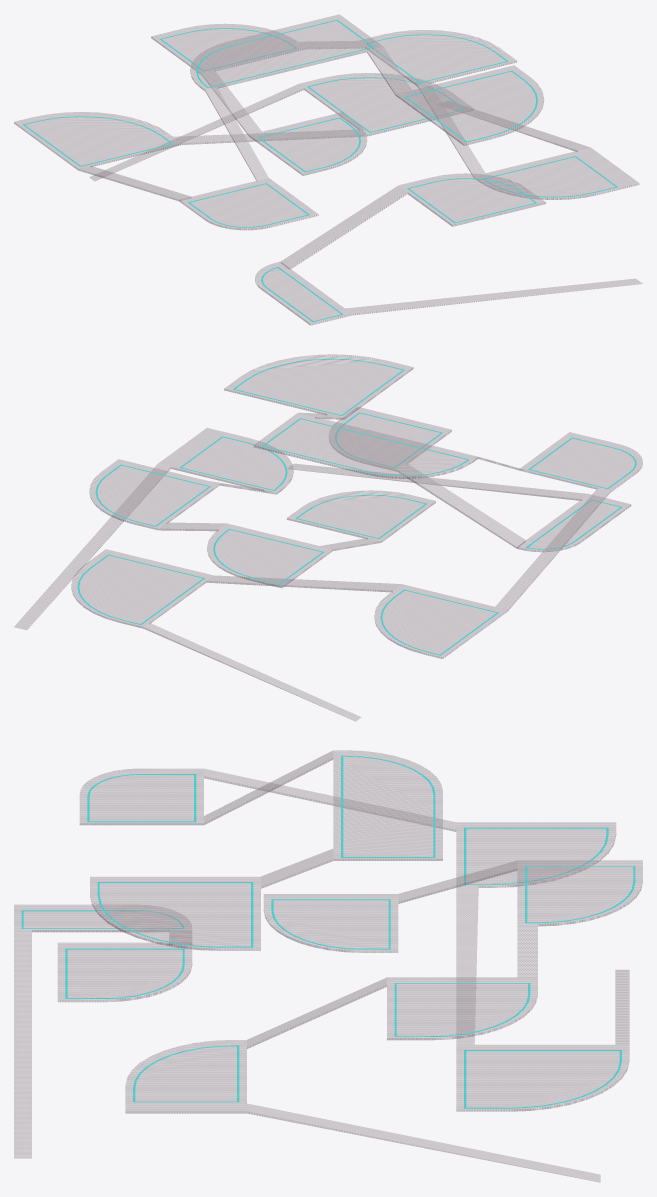
File: rampas.glb
3 renders of one model, top to bottom at view 1: azimuth 30°, elevation 25°; view 2: azimuth 150°, elevation 25°; view 3: azimuth 270°, elevation 25°, orthographic. The views are drawn at different scales.
Visible parts, largest first — view 1: Plano.002; view 2: Plano.002; view 3: Plano.002.
Part boxes in pixels (bbox=[...]): Plano.002: bbox=[14, 14, 642, 325]; Plano.002: bbox=[14, 354, 642, 721]; Plano.002: bbox=[14, 750, 642, 1182].
Size of what is drawn, in the model's own units: 132 by 51.82 by 134.
2 materials, 1 textured.
